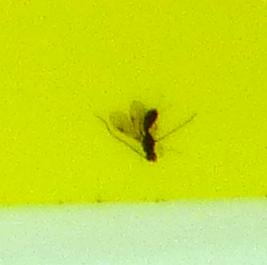Hymenoptera: (100, 100, 167, 165)
